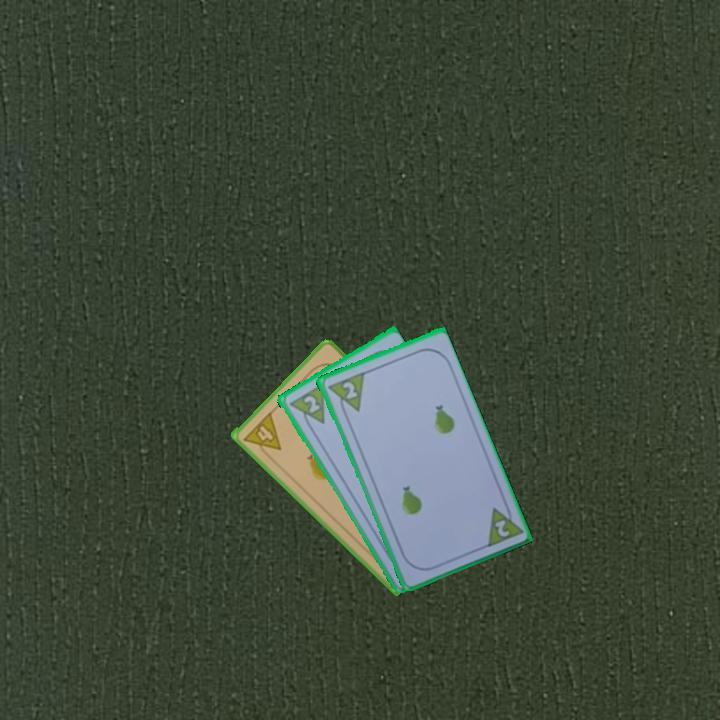2p: (323, 369, 367, 419), (482, 498, 524, 550), (299, 391, 322, 416)
4p: (240, 408, 284, 462)
